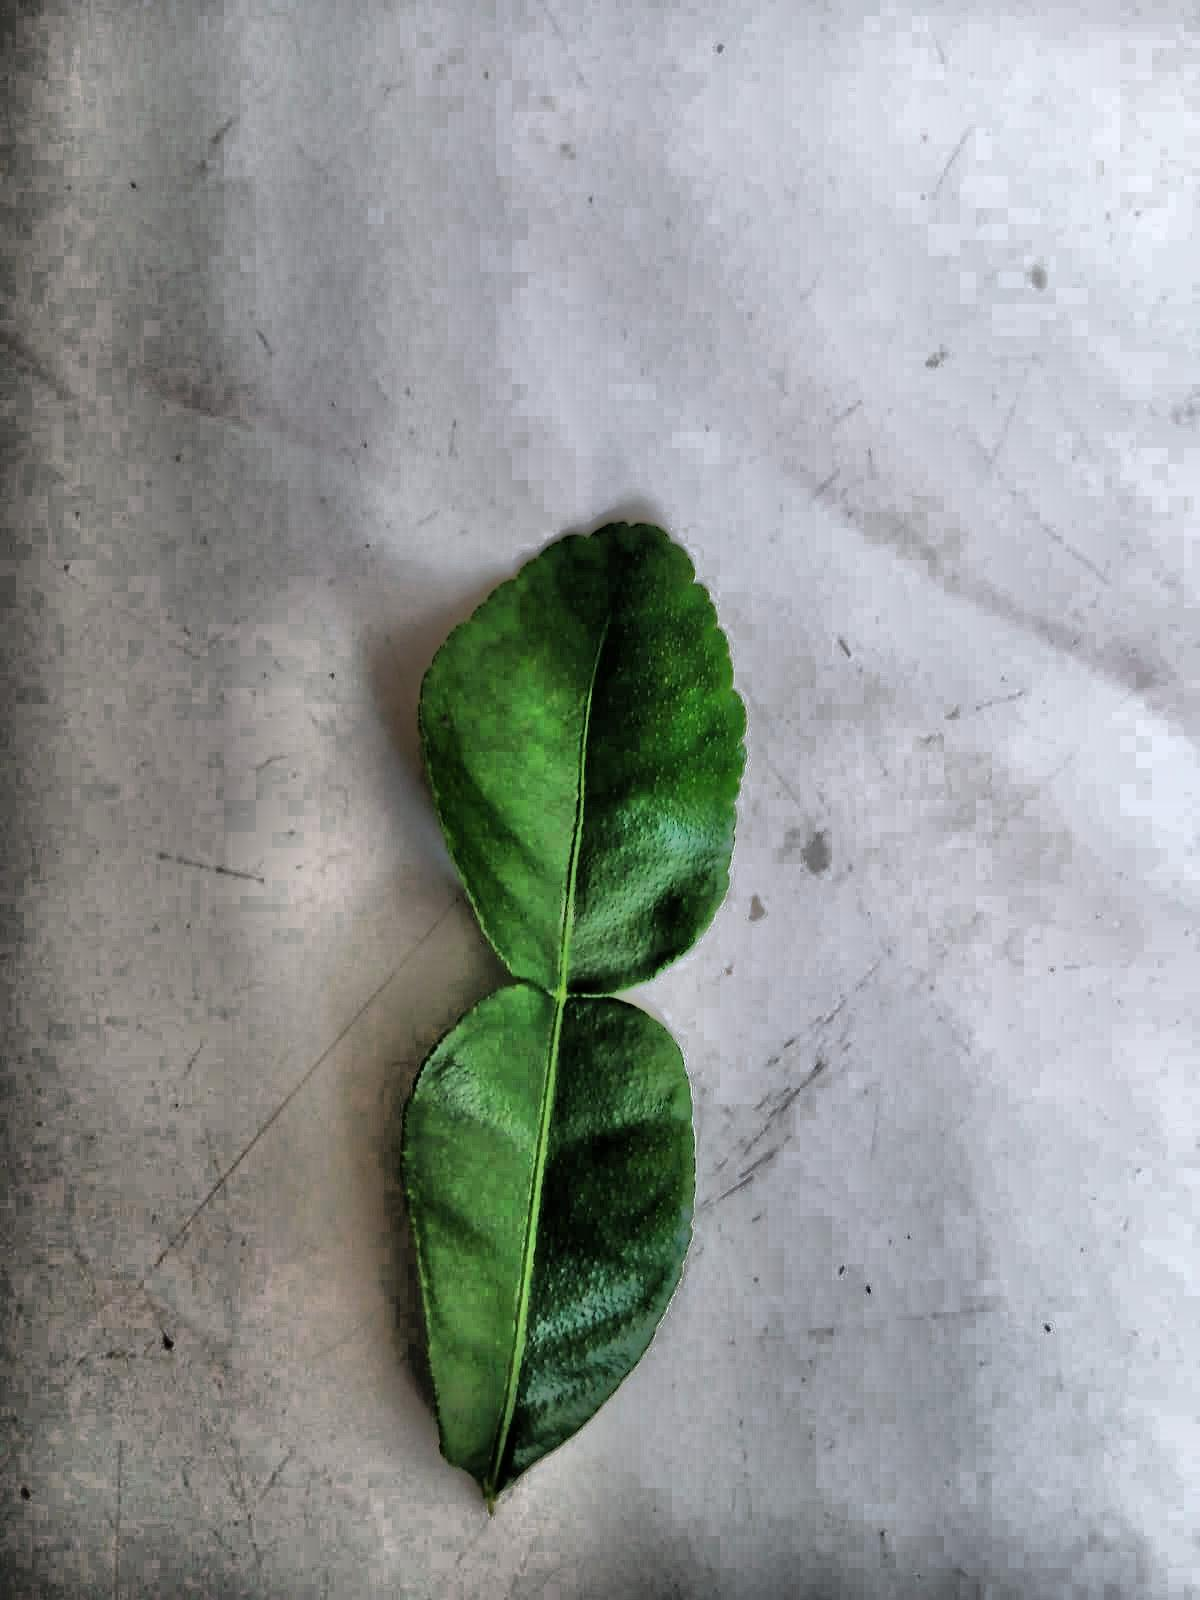daun jeruk: (401, 522, 745, 1503)
daun kunyit: (574, 838, 576, 840)
